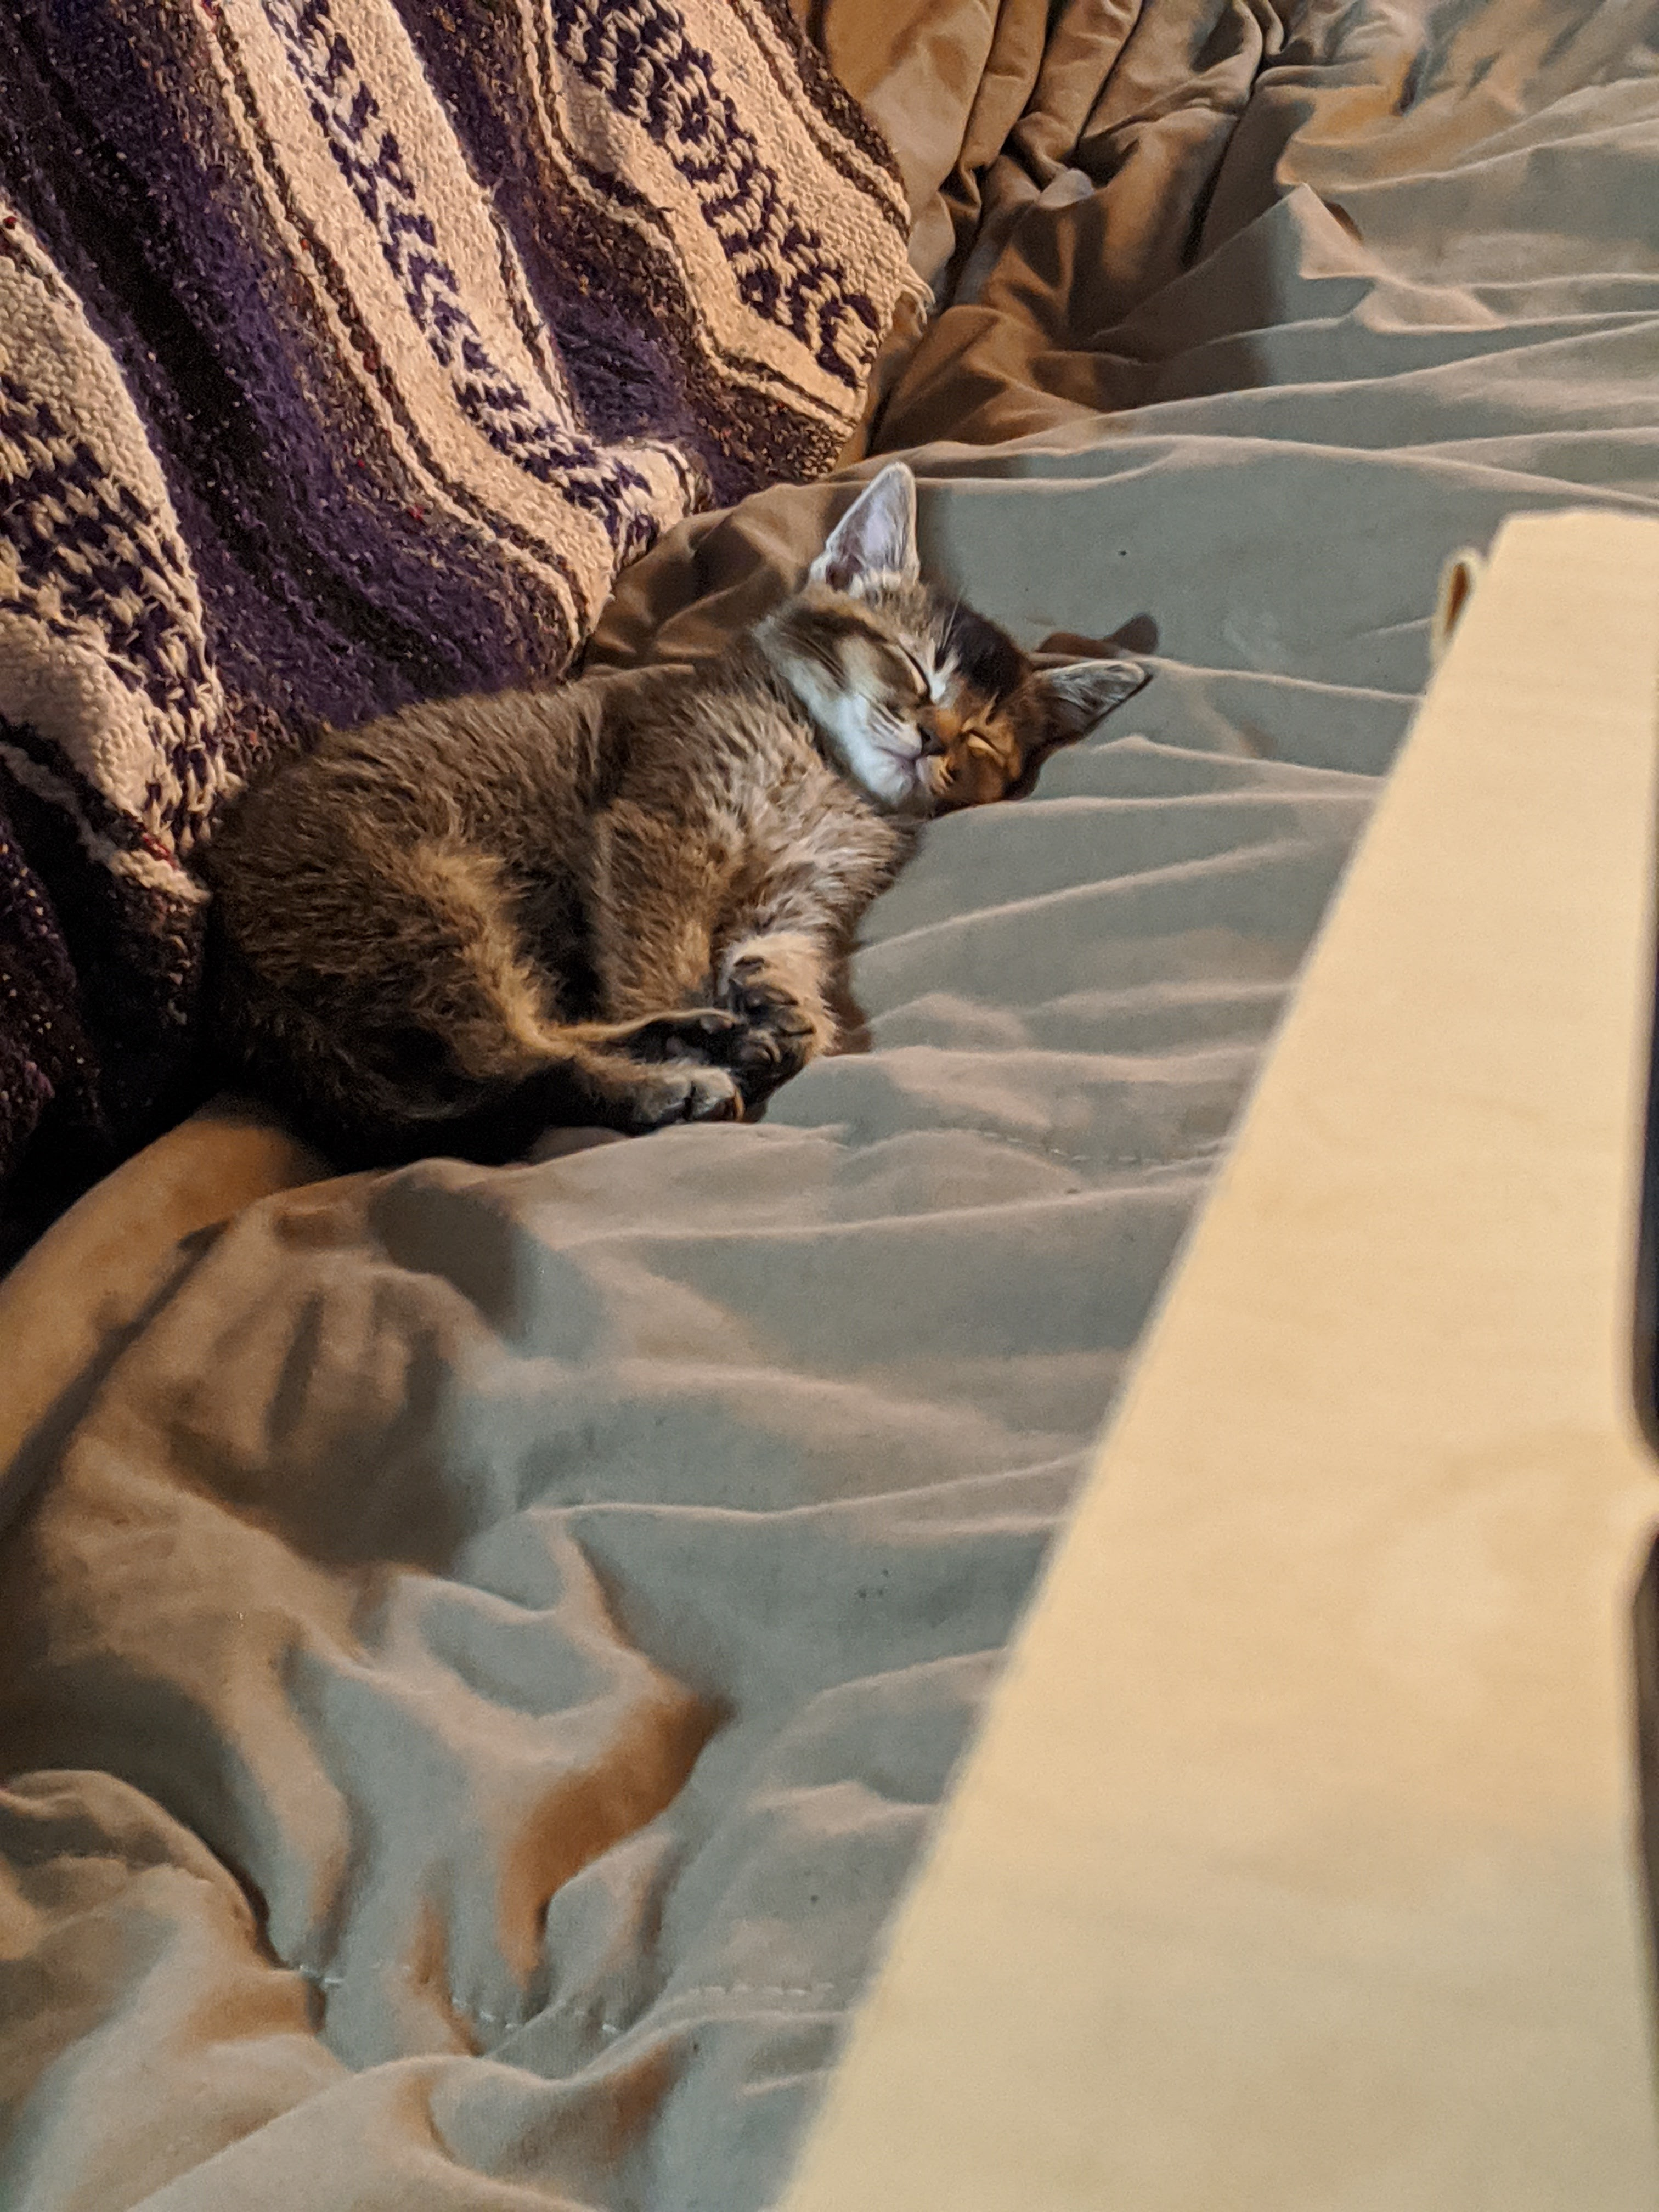luna: (200, 455, 1152, 1169)
